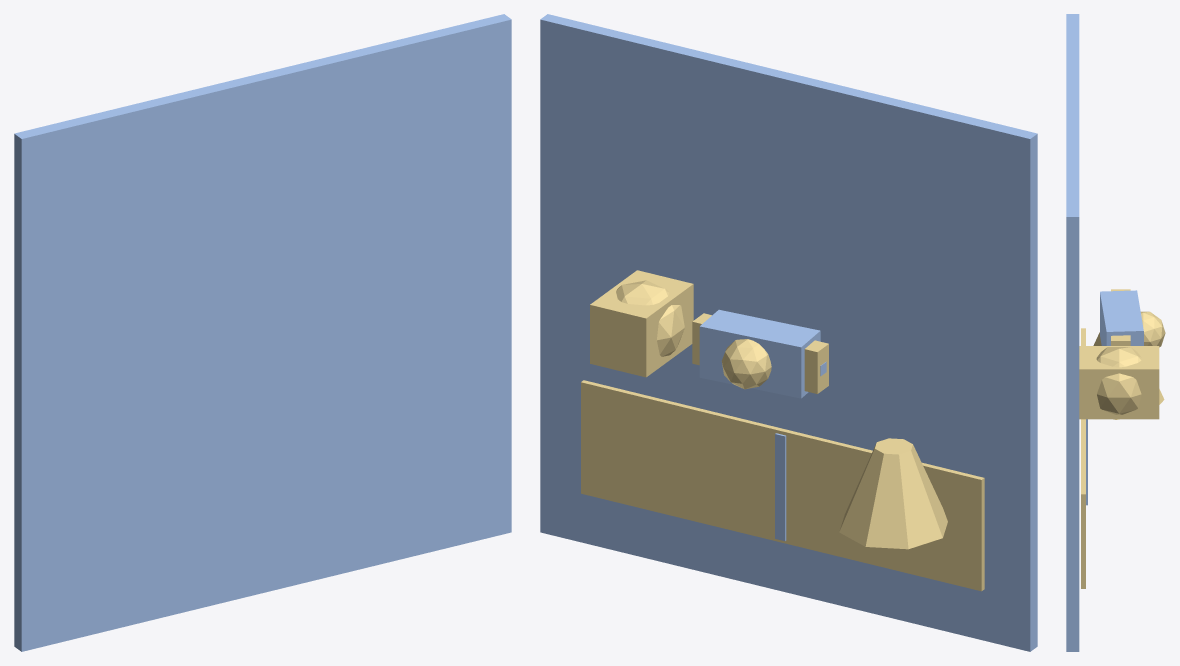
Rendered from typing-overdrive-kit.glb.
3 views of the same model, side by side, from view 1: azimuth 30°, elevation 25°; view 2: azimuth 150°, elevation 25°; view 3: azimuth 270°, elevation 25° (orthographic). The views are drawn at different scales.
Visible parts, largest first — view 1: ENVIRONMENT_GROUND; view 2: ENVIRONMENT_GROUND, PROFILE_ENVIRONMENT_DETAIL, ENVIRONMENT_LANDMARK, PROFILE_OBSTACLE_DETAIL, PLAYER_BODY, OBSTACLE, PLAYER_CORE, PROFILE_PLAYER_DETAIL, PROFILE_ENVIRONMENT_MARKING; view 3: ENVIRONMENT_GROUND, PROFILE_OBSTACLE_DETAIL, OBSTACLE, PLAYER_BODY, PROFILE_ENVIRONMENT_DETAIL, PLAYER_CORE, PROFILE_PLAYER_DETAIL, PROFILE_ENVIRONMENT_MARKING.
Boxes of the visible parts, bbox=[...] form: ENVIRONMENT_GROUND: bbox=[14, 14, 511, 651]; ENVIRONMENT_GROUND: bbox=[540, 14, 1037, 651]; PROFILE_ENVIRONMENT_DETAIL: bbox=[581, 380, 984, 591]; ENVIRONMENT_LANDMARK: bbox=[839, 438, 947, 549]; PROFILE_OBSTACLE_DETAIL: bbox=[590, 270, 693, 377]; PLAYER_BODY: bbox=[699, 309, 820, 398]; OBSTACLE: bbox=[616, 280, 684, 356]; PLAYER_CORE: bbox=[721, 339, 771, 389]; PROFILE_PLAYER_DETAIL: bbox=[692, 313, 828, 393]; PROFILE_ENVIRONMENT_MARKING: bbox=[775, 433, 786, 541]; ENVIRONMENT_GROUND: bbox=[1066, 14, 1079, 651]; PROFILE_OBSTACLE_DETAIL: bbox=[1079, 346, 1159, 419]; OBSTACLE: bbox=[1096, 347, 1141, 414]; PLAYER_BODY: bbox=[1100, 290, 1143, 345]; PROFILE_ENVIRONMENT_DETAIL: bbox=[1081, 328, 1085, 588]; PLAYER_CORE: bbox=[1140, 311, 1165, 347]; PROFILE_PLAYER_DETAIL: bbox=[1111, 289, 1130, 345]; PROFILE_ENVIRONMENT_MARKING: bbox=[1086, 419, 1087, 505].
Size of what is drawn, in the model's own units: 9 by 9 by 1.86.
